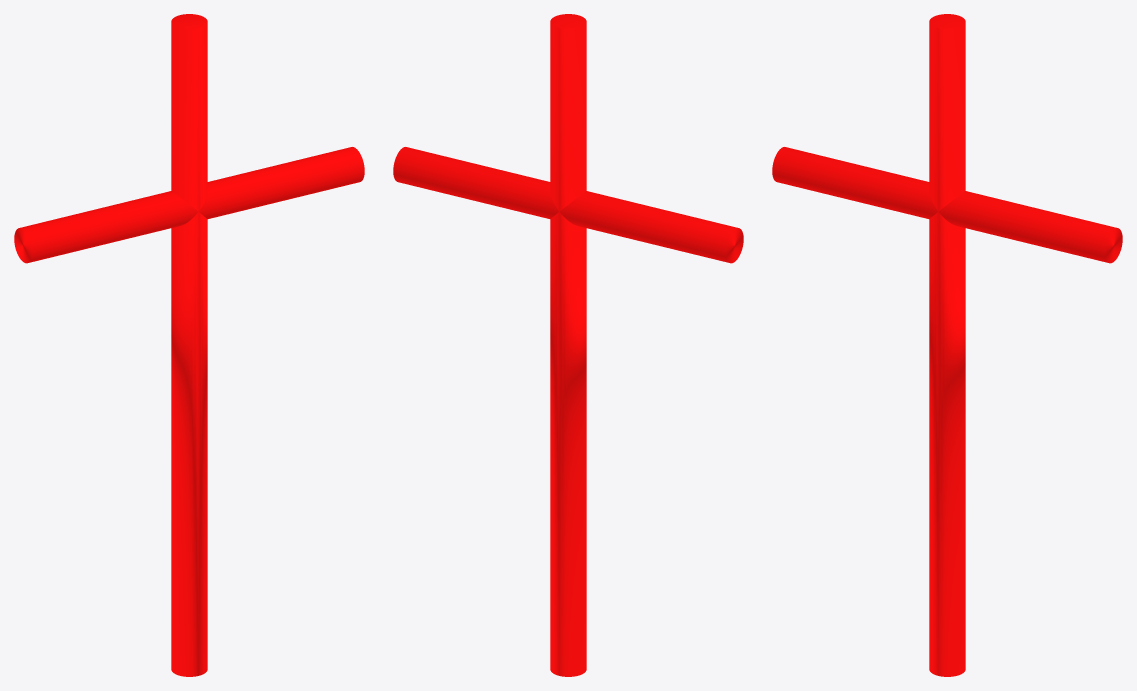
Rendered from speakerman_cross_effect.glb.
3 views of the same model, side by side, from view 1: azimuth 30°, elevation 25°; view 2: azimuth 150°, elevation 25°; view 3: azimuth 330°, elevation 25° (orthographic).
Parts seen in each view (by area): view 1: CROSS_0; view 2: CROSS_0; view 3: CROSS_0.
Boxes of the visible parts, box(x1,y1,x2,y2) form: CROSS_0: box(14, 14, 364, 676); CROSS_0: box(393, 14, 743, 676); CROSS_0: box(772, 14, 1122, 676).
Bounding box in the file's own units: 6.55 × 12.19 × 0.6201.
Materials: 1 (1 with a texture image).
